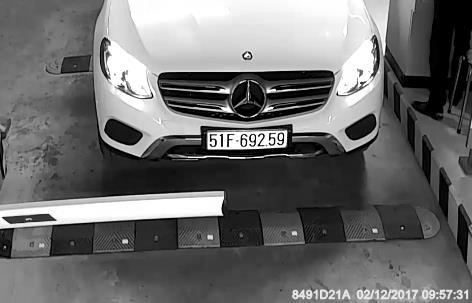License-plate: (192, 120, 303, 163)
